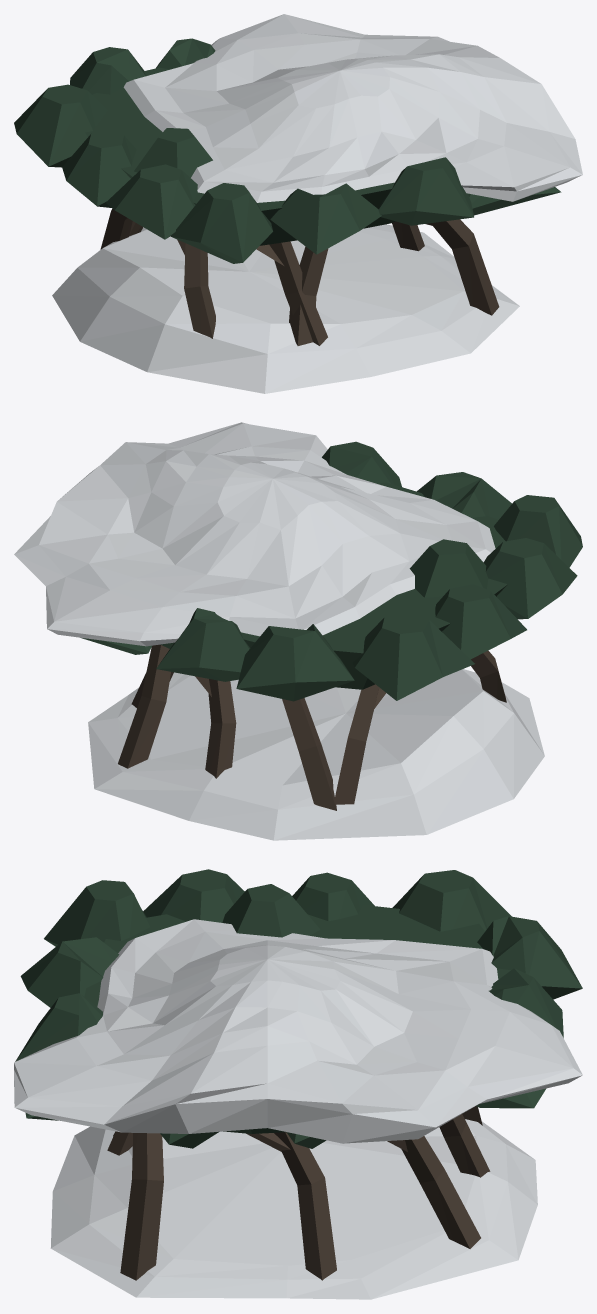
File: dwarf-pine-mat-faee77.glb
3 views of the same model, one above another, from view 1: azimuth 30°, elevation 25°; view 2: azimuth 150°, elevation 25°; view 3: azimuth 270°, elevation 25° (orthographic). The views are drawn at different scales.
Parts seen in each view (by area): view 1: dwarf-pine-mat; view 2: dwarf-pine-mat; view 3: dwarf-pine-mat.
Part boxes in pixels (x1,y1,x2,y2): dwarf-pine-mat: (14,14,582,393); dwarf-pine-mat: (14,422,582,840); dwarf-pine-mat: (14,869,582,1299).
Bounding box in the file's own units: 2.5 × 1.29 × 2.5.
